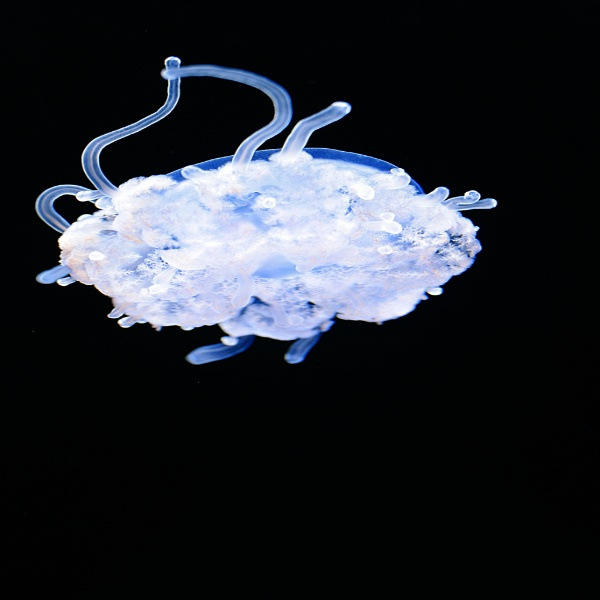Jellyfish: (31, 54, 498, 363)
